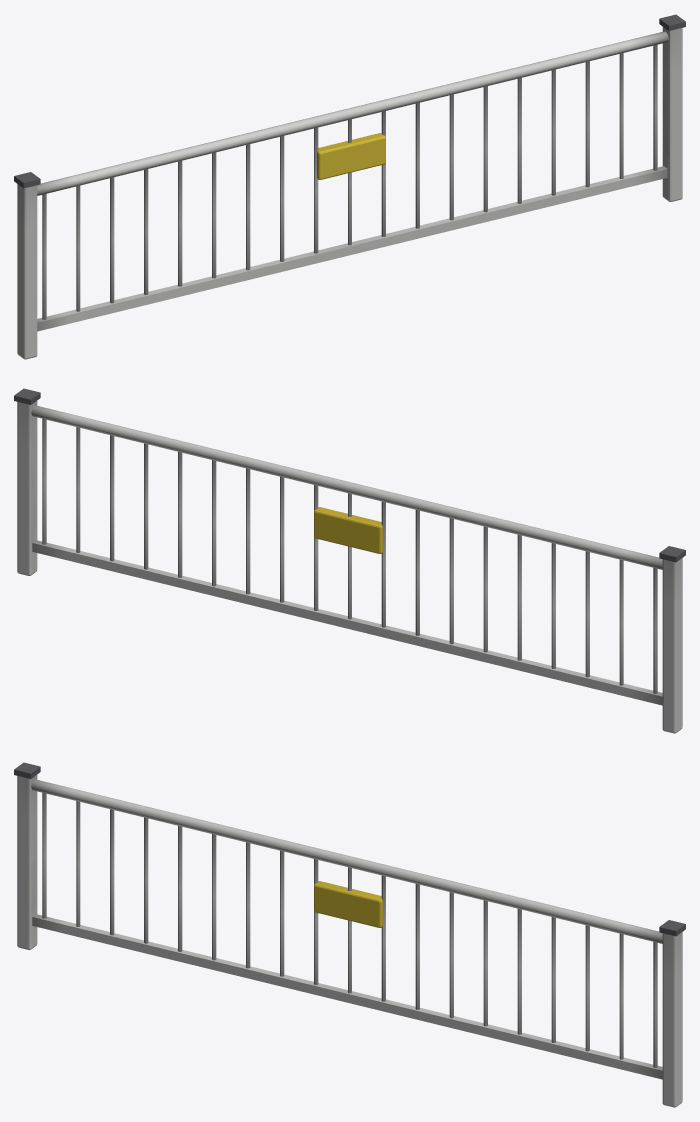
The model's file is st_rail.glb.
The picture shows the model from 3 angles, top to bottom: view 1: azimuth 30°, elevation 25°; view 2: azimuth 150°, elevation 25°; view 3: azimuth 330°, elevation 25°; orthographic projection.
Parts seen in each view (by area): view 1: body; view 2: body; view 3: body.
Part boxes in pixels (x1,y1,x2,y2): body: [14, 14, 685, 359]; body: [14, 388, 685, 733]; body: [14, 762, 685, 1107].
Size of the model in its own units: 3.9 by 1 by 0.1.
